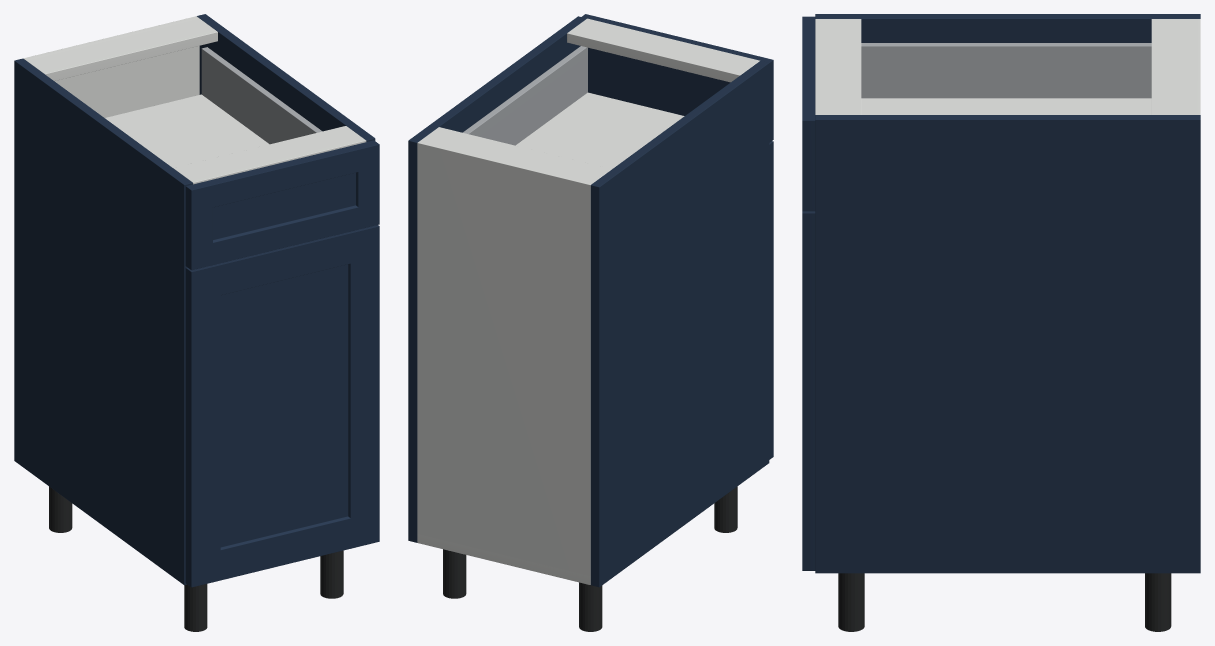
The model's file is oppein-pb-bss-b15.glb.
The picture shows the model from 3 angles, left to right: view 1: azimuth 30°, elevation 25°; view 2: azimuth 150°, elevation 25°; view 3: azimuth 270°, elevation 25°; orthographic projection. The views are drawn at different scales.
Visible parts, largest first — view 1: Cabinet side, Door, Drawer front, Cabinet back, Drawer floor, Drawer side.001, Top support rail, Cabinet side.001, Top support rail.001, Adjustable foot.001, Adjustable foot.003, Adjustable foot; view 2: Cabinet side, Cabinet back, Cabinet side.001, Drawer floor, Drawer front, Drawer side.001, Top support rail.001, Top support rail, Cabinet bottom, Door, Adjustable foot, Adjustable foot.002 (+1 smaller); view 3: Cabinet side.001, Drawer side, Cabinet side, Door, Drawer floor, Top support rail.001, Top support rail, Drawer front, Adjustable foot.002, Adjustable foot.003, Cabinet back.
Boxes of the visible parts, left/top/right/bottom form: Cabinet side: left=14, top=58, right=192, bottom=585; Door: left=185, top=225, right=379, bottom=587; Drawer front: left=185, top=140, right=379, bottom=270; Cabinet back: left=23, top=16, right=199, bottom=117; Drawer floor: left=105, top=94, right=269, bottom=167; Drawer side.001: left=201, top=47, right=322, bottom=144; Top support rail: left=26, top=18, right=217, bottom=80; Cabinet side.001: left=197, top=14, right=375, bottom=141; Top support rail.001: left=173, top=126, right=366, bottom=184; Adjustable foot.001: left=184, top=584, right=207, bottom=631; Adjustable foot.003: left=320, top=550, right=343, bottom=598; Adjustable foot: left=49, top=486, right=72, bottom=532; Cabinet side: left=590, top=61, right=769, bottom=587; Cabinet back: left=417, top=140, right=593, bottom=584; Cabinet side.001: left=408, top=16, right=586, bottom=542; Drawer floor: left=516, top=92, right=684, bottom=168; Drawer front: left=582, top=14, right=773, bottom=142; Drawer side.001: left=463, top=46, right=587, bottom=145; Top support rail.001: left=567, top=18, right=759, bottom=82; Top support rail: left=421, top=127, right=611, bottom=183; Cabinet bottom: left=417, top=534, right=590, bottom=584; Door: left=769, top=141, right=773, bottom=459; Adjustable foot: left=579, top=582, right=602, bottom=631; Adjustable foot.002: left=443, top=549, right=466, bottom=598; Cabinet side.001: left=815, top=115, right=1200, bottom=573; Drawer side: left=861, top=43, right=1151, bottom=98; Cabinet side: left=815, top=14, right=1200, bottom=42; Door: left=802, top=211, right=815, bottom=570; Drawer floor: left=861, top=98, right=1151, bottom=114; Top support rail.001: left=815, top=19, right=861, bottom=114; Top support rail: left=1151, top=19, right=1193, bottom=114; Drawer front: left=802, top=16, right=815, bottom=211; Adjustable foot.002: left=1145, top=573, right=1171, bottom=631; Adjustable foot.003: left=838, top=573, right=864, bottom=631; Cabinet back: left=1193, top=19, right=1200, bottom=114.
Bounding box in the file's own units: 0.381 × 0.8763 × 0.6064.
